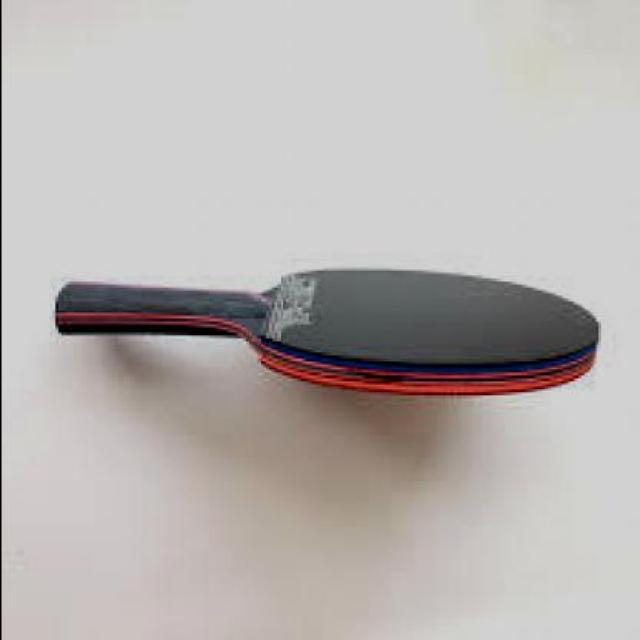table_tennis_racket: (248, 261, 600, 397)
